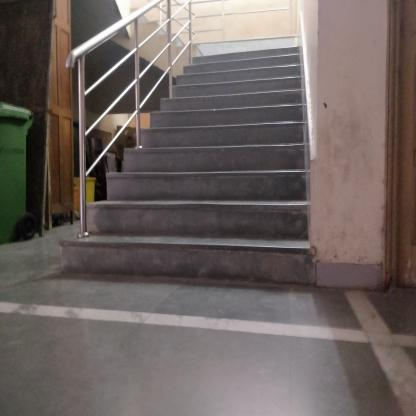stairs: (144, 110, 302, 297)
